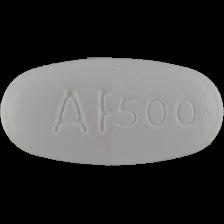60687-103: (0, 0, 224, 224)
